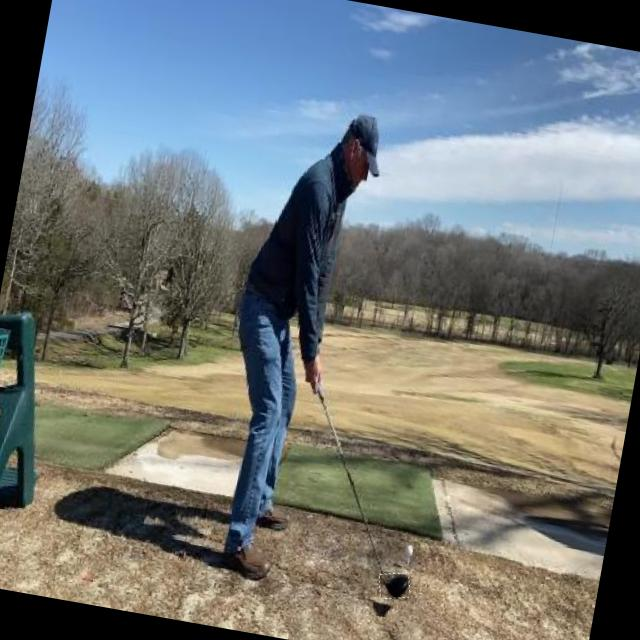club head: (376, 570, 411, 602)
